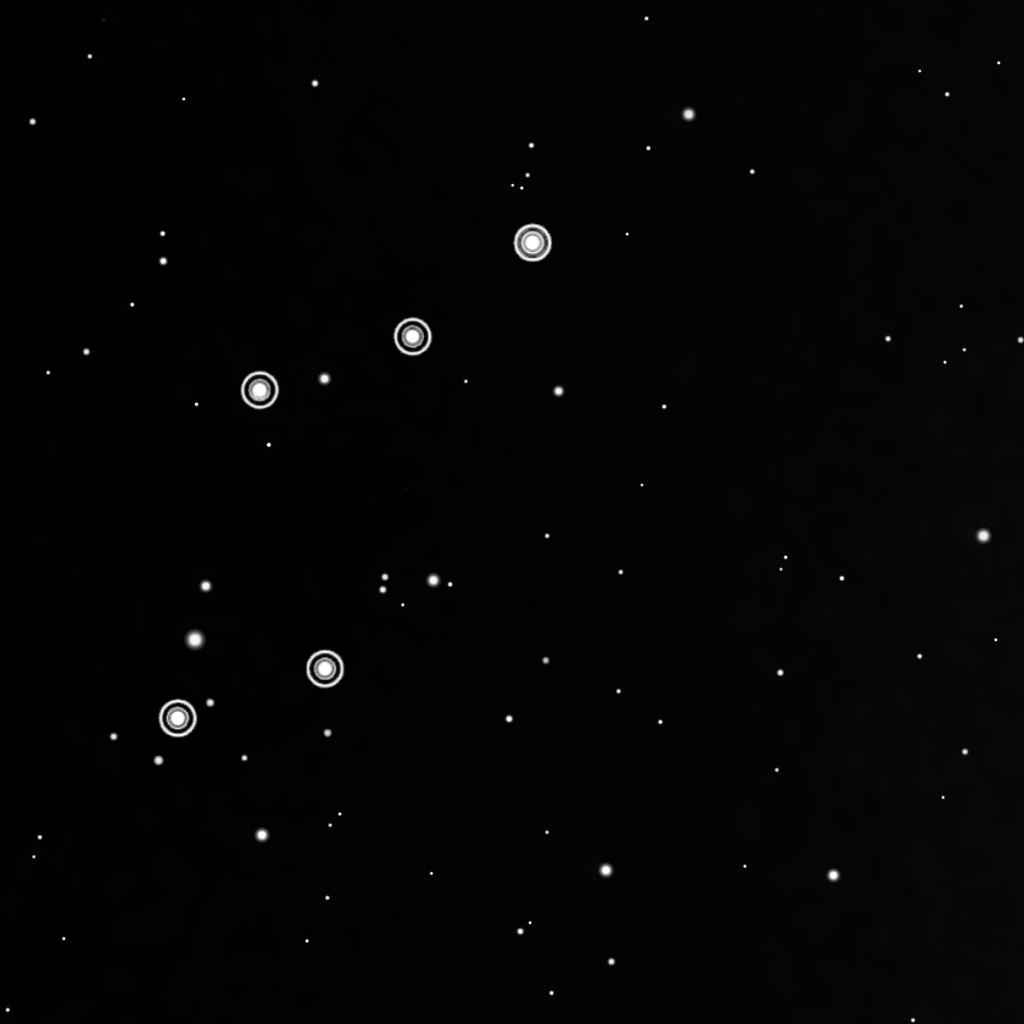lyra: (147, 209, 561, 746)
